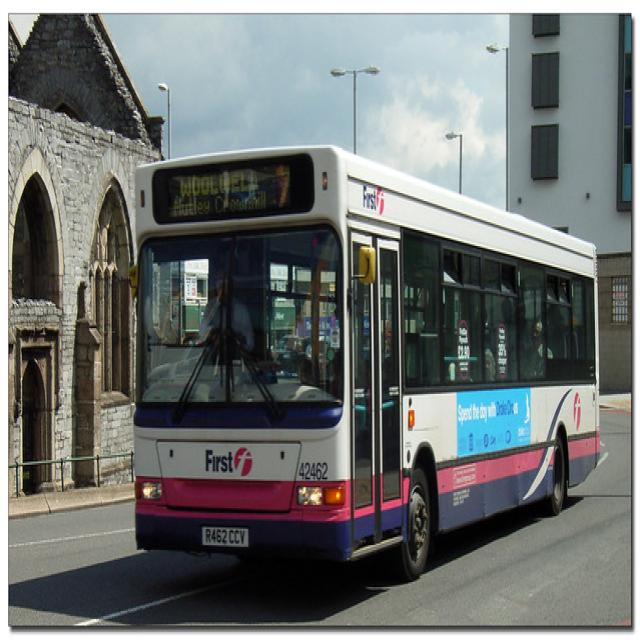Bus: (131, 146, 602, 574), (332, 66, 378, 153)
